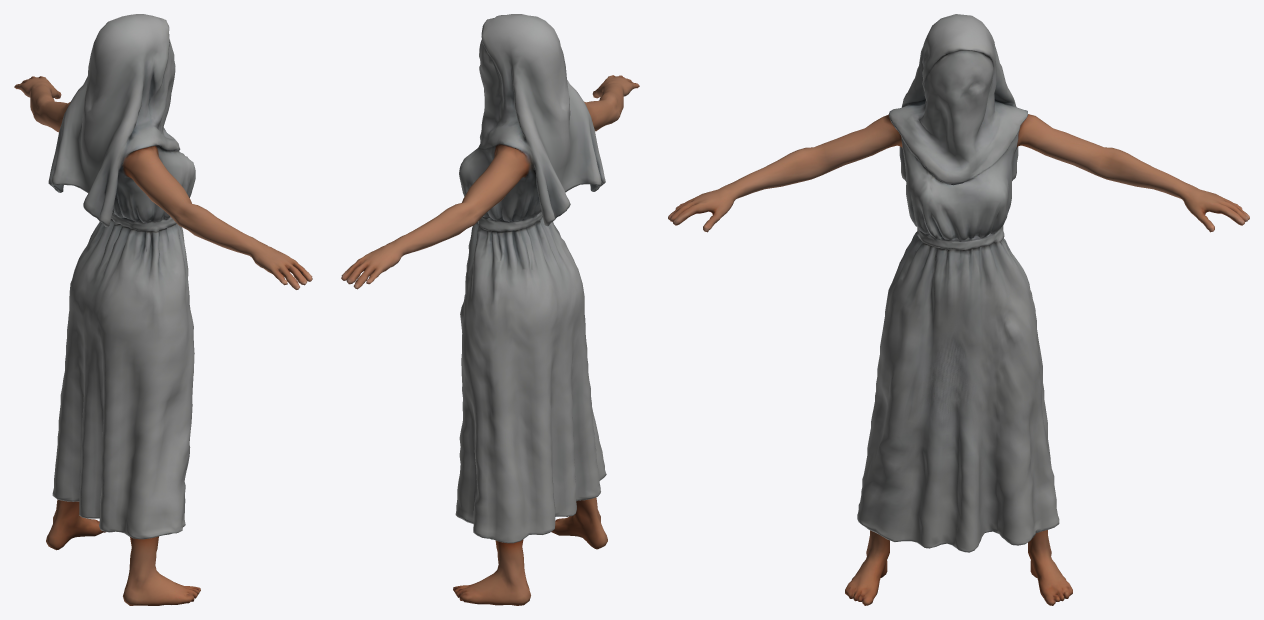
File: heroine_v3_tripo.glb
3 views of the same model, side by side, from view 1: azimuth 30°, elevation 25°; view 2: azimuth 150°, elevation 25°; view 3: azimuth 270°, elevation 25° (orthographic). The views are drawn at different scales.
Visible parts, largest first — view 1: tripo_node_17a43efe-4348-4d66-b9a0-4de5e0e834fc; view 2: tripo_node_17a43efe-4348-4d66-b9a0-4de5e0e834fc; view 3: tripo_node_17a43efe-4348-4d66-b9a0-4de5e0e834fc.
Part boxes in pixels (left/top/right/bottom): tripo_node_17a43efe-4348-4d66-b9a0-4de5e0e834fc: left=14, top=14, right=312, bottom=605; tripo_node_17a43efe-4348-4d66-b9a0-4de5e0e834fc: left=341, top=14, right=639, bottom=605; tripo_node_17a43efe-4348-4d66-b9a0-4de5e0e834fc: left=668, top=14, right=1249, bottom=605.
Bounding box in the file's own units: 0.2133 × 1 × 0.9139.
Materials: 1 (1 with a texture image).
